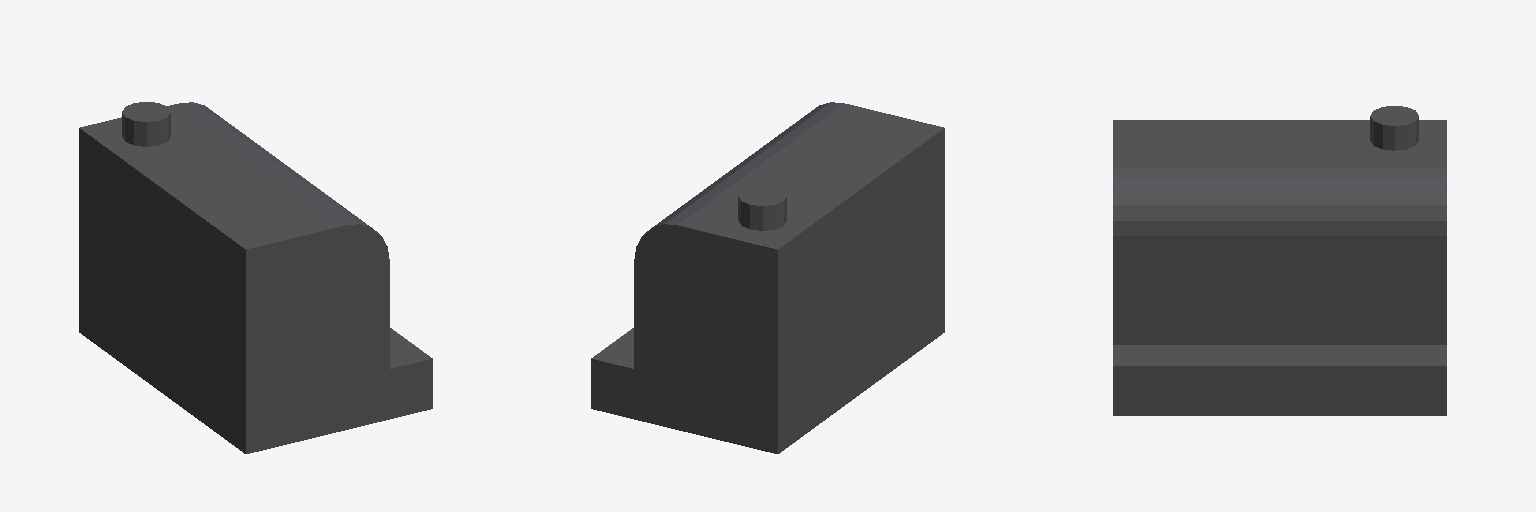
File: SpringJuice.obj
3 views of the same model, side by side, from view 1: azimuth 30°, elevation 25°; view 2: azimuth 150°, elevation 25°; view 3: azimuth 270°, elevation 25° (orthographic).
Parts seen in each view (by area): view 1: Springjuice1; view 2: Springjuice1; view 3: Springjuice1.
Boxes of the visible parts, x1,y1,x2,y2 form: Springjuice1: [79, 102, 432, 453]; Springjuice1: [591, 102, 944, 453]; Springjuice1: [1113, 106, 1446, 415].
Size of the model in its own units: 1.01 by 1.19 by 1.57.